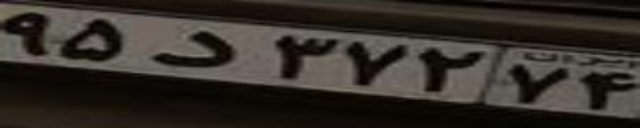2: (417, 46, 486, 93)
3: (270, 36, 335, 79)
4: (580, 69, 637, 112)
5: (57, 17, 126, 62)
7: (343, 40, 409, 87), (507, 64, 570, 104)
9: (1, 11, 51, 58)
dal: (147, 28, 232, 68)
